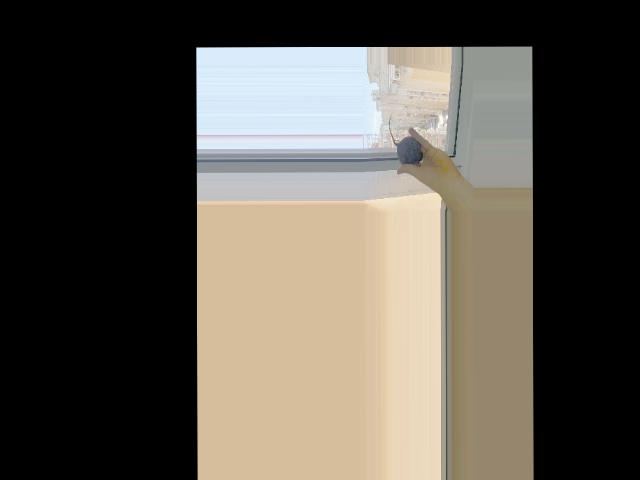beet: (388, 113, 423, 164)
